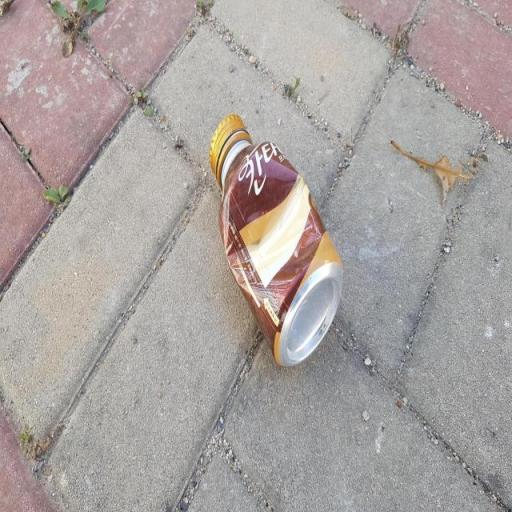metal: (160, 82, 374, 402)
